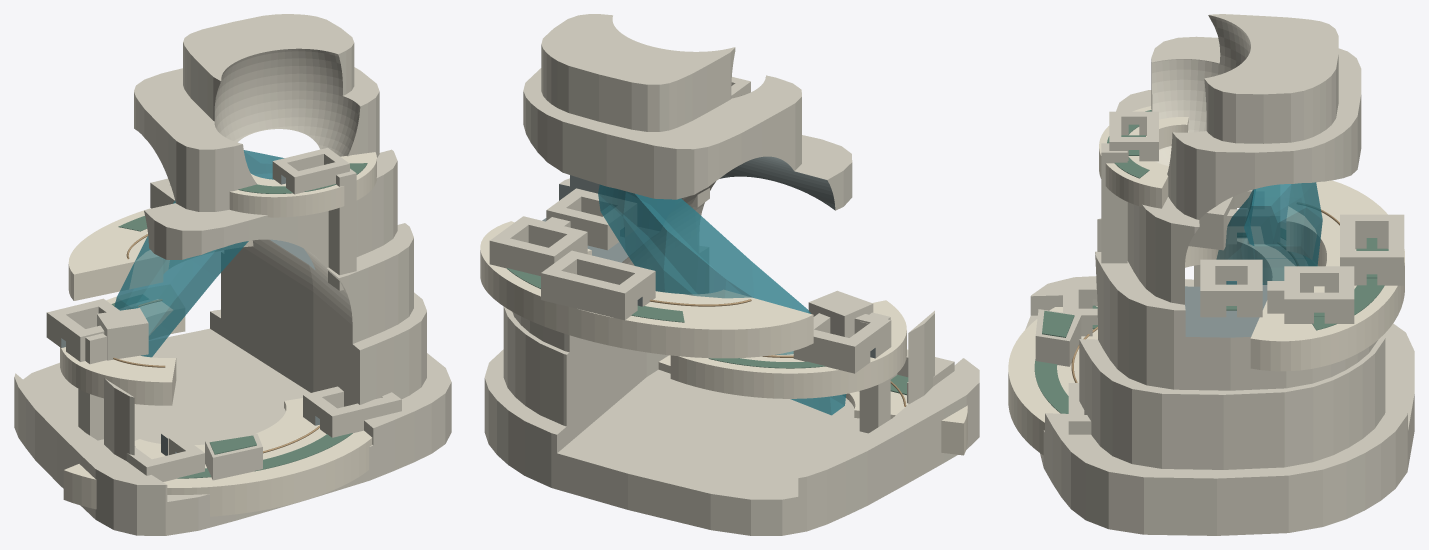
File: dankaikyu_II_A.glb
3 renders of one model, left to right at view 1: azimuth 30°, elevation 25°; view 2: azimuth 150°, elevation 25°; view 3: azimuth 270°, elevation 25°, orthographic. The views are drawn at different scales.
Visible parts, largest first — view 1: MAIN / continuous inhabited continent, GROUND CITY / lower civic crescent, SEA / bent ocean through two urban bays, MID CITY / inhabited western peninsula, HIGH CITY / transverse rear haven, SKY CITY / crown garden, LOW / makers and learning quarter / inhabited perimeter, CITY / transfer and service core 2, SKY / civic observatory / inhabited perimeter, MID / western inhabited district / inhabited perimeter, LOW / residential civic quarter / inhabited perimeter, FACILITY / Marine Research Institute (+6 smaller); view 2: MAIN / continuous inhabited continent, HIGH CITY / transverse rear haven, SEA / bent ocean through two urban bays, MID CITY / inhabited western peninsula, HIGH / rear university district / inhabited perimeter, HIGH / residential garden district / inhabited perimeter, MID / western inhabited district / inhabited perimeter, FACILITY / Deep Library / inhabited perimeter, GROUND CITY / lower civic crescent, FACILITY / Marine Research Institute, CITY / transfer and service core 0, GARDEN / rear horizon field (+2 smaller); view 3: MAIN / continuous inhabited continent, HIGH CITY / transverse rear haven, SEA / bent ocean through two urban bays, HIGH / rear university district / inhabited perimeter, GROUND CITY / lower civic crescent, HIGH / residential garden district / inhabited perimeter, FACILITY / Deep Library / inhabited perimeter, SKY CITY / crown garden, CITY / transfer and service core 2, MID / western inhabited district / inhabited perimeter, MID CITY / inhabited western peninsula, SKY / civic observatory / inhabited perimeter (+8 smaller).
Boxes of the visible parts, x1=… form: MAIN / continuous inhabited continent: x1=14, y1=14, x2=451, y2=535; GROUND CITY / lower civic crescent: x1=63, y1=398, x2=372, y2=516; SEA / bent ocean through two urban bays: x1=114, y1=150, x2=284, y2=357; MID CITY / inhabited western peninsula: x1=60, y1=285, x2=185, y2=405; HIGH CITY / transverse rear haven: x1=68, y1=208, x2=253, y2=300; SKY CITY / crown garden: x1=229, y1=152, x2=376, y2=217; LOW / makers and learning quarter / inhabited perimeter: x1=303, y1=386, x2=401, y2=437; CITY / transfer and service core 2: x1=328, y1=168, x2=356, y2=290; SKY / civic observatory / inhabited perimeter: x1=272, y1=147, x2=349, y2=194; MID / western inhabited district / inhabited perimeter: x1=46, y1=298, x2=119, y2=361; LOW / residential civic quarter / inhabited perimeter: x1=126, y1=430, x2=204, y2=481; FACILITY / Marine Research Institute: x1=97, y1=308, x2=148, y2=360; MAIN / continuous inhabited continent: x1=484, y1=14, x2=979, y2=535; HIGH CITY / transverse rear haven: x1=480, y1=221, x2=813, y2=358; SEA / bent ocean through two urban bays: x1=598, y1=184, x2=846, y2=415; MID CITY / inhabited western peninsula: x1=670, y1=300, x2=906, y2=398; HIGH / rear university district / inhabited perimeter: x1=541, y1=250, x2=655, y2=320; HIGH / residential garden district / inhabited perimeter: x1=489, y1=216, x2=587, y2=276; MID / western inhabited district / inhabited perimeter: x1=793, y1=313, x2=891, y2=373; FACILITY / Deep Library / inhabited perimeter: x1=546, y1=188, x2=636, y2=250; GROUND CITY / lower civic crescent: x1=658, y1=349, x2=967, y2=455; FACILITY / Marine Research Institute: x1=808, y1=290, x2=873, y2=337; CITY / transfer and service core 0: x1=859, y1=312, x2=890, y2=433; GARDEN / rear horizon field: x1=506, y1=268, x2=684, y2=322; MAIN / continuous inhabited continent: x1=1025, y1=14, x2=1414, y2=535; HIGH CITY / transverse rear haven: x1=1250, y1=180, x2=1404, y2=371; SEA / bent ocean through two urban bays: x1=1216, y1=182, x2=1322, y2=284; HIGH / rear university district / inhabited perimeter: x1=1340, y1=214, x2=1404, y2=285; GROUND CITY / lower civic crescent: x1=1008, y1=306, x2=1097, y2=455; HIGH / residential garden district / inhabited perimeter: x1=1284, y1=266, x2=1354, y2=323; FACILITY / Deep Library / inhabited perimeter: x1=1200, y1=259, x2=1262, y2=317; SKY CITY / crown garden: x1=1099, y1=106, x2=1188, y2=208; CITY / transfer and service core 2: x1=1101, y1=143, x2=1127, y2=263; MID / western inhabited district / inhabited perimeter: x1=1227, y1=185, x2=1279, y2=243; MID CITY / inhabited western peninsula: x1=1185, y1=222, x2=1307, y2=284; SKY / civic observatory / inhabited perimeter: x1=1109, y1=111, x2=1158, y2=161.
Bounding box in the file's own units: 5122 × 4660 × 4167.
